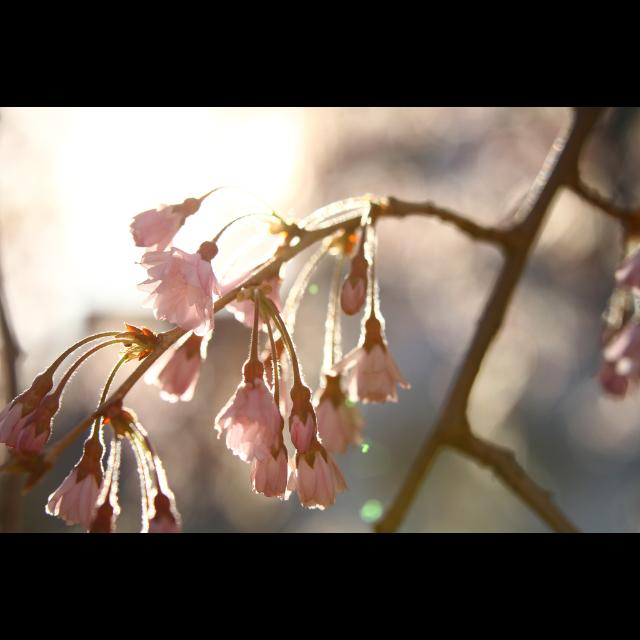Flower: (138, 240, 216, 340), (212, 354, 276, 462), (327, 332, 411, 404), (43, 434, 103, 526), (220, 254, 284, 332), (147, 330, 209, 400), (284, 442, 344, 514), (308, 368, 356, 454), (1, 374, 52, 442), (125, 206, 202, 250), (11, 395, 65, 457), (253, 437, 285, 505)
